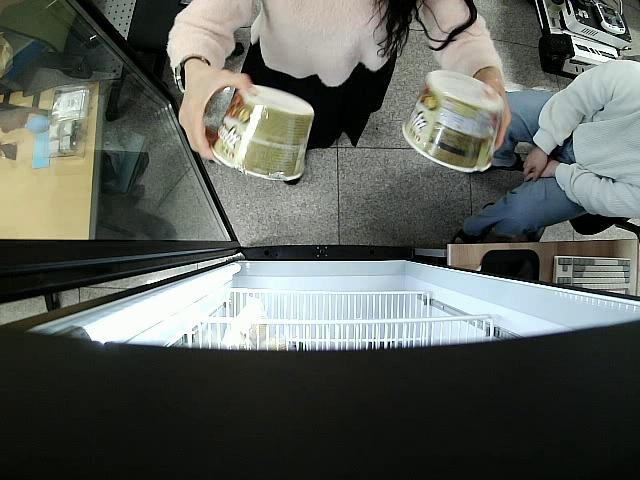00_hand: (178, 68, 257, 161)
03_chapagetti_L: (401, 71, 504, 173), (211, 87, 314, 183)
